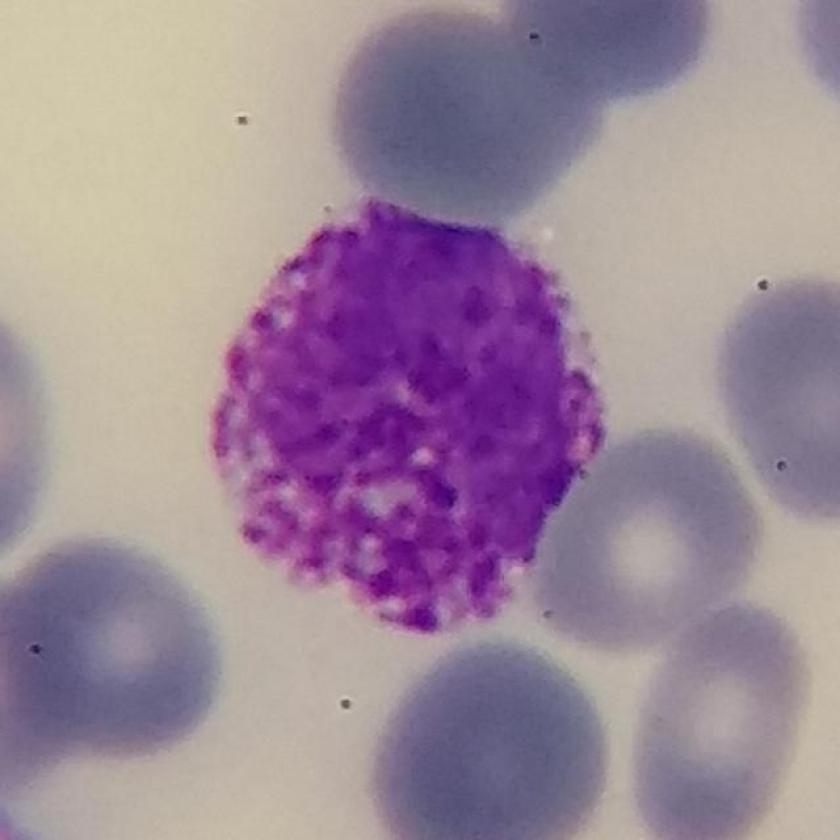basophil: (197, 182, 615, 639)
